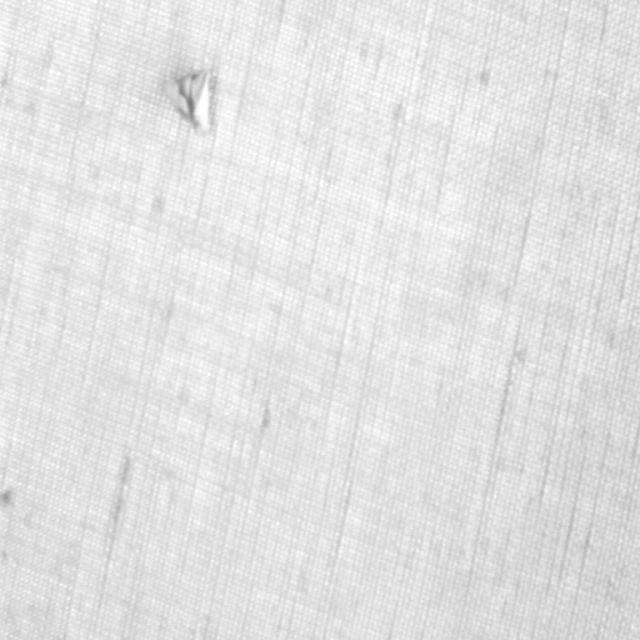objects: (164, 64, 214, 140)
